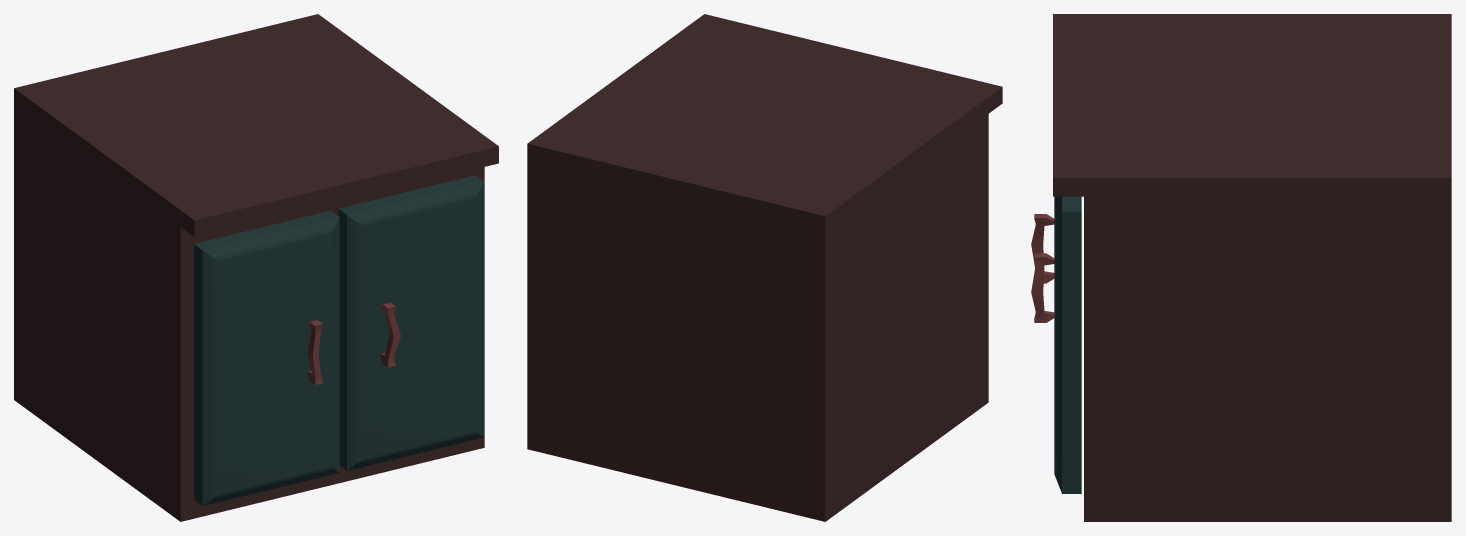
File: counter_1_painted.fbx
The picture shows the model from 3 angles, left to right: view 1: azimuth 30°, elevation 25°; view 2: azimuth 150°, elevation 25°; view 3: azimuth 270°, elevation 25°; orthographic projection. The views are drawn at different scales.
Visible parts, largest first — view 1: counter_2_base_low, counter_1_doors_low, counter_handle_low; view 2: counter_2_base_low; view 3: counter_2_base_low, counter_1_doors_low, counter_handle_low.
Part boxes in pixels (x1,y1,x2,y2): counter_2_base_low: (14,14,498,521); counter_1_doors_low: (194,175,483,505); counter_handle_low: (307,302,400,384); counter_2_base_low: (527,14,1002,521); counter_2_base_low: (1053,14,1451,521); counter_1_doors_low: (1054,196,1081,493); counter_handle_low: (1031,214,1054,322).
Size of the model in its own units: 6.37 by 6.25 by 6.92.
